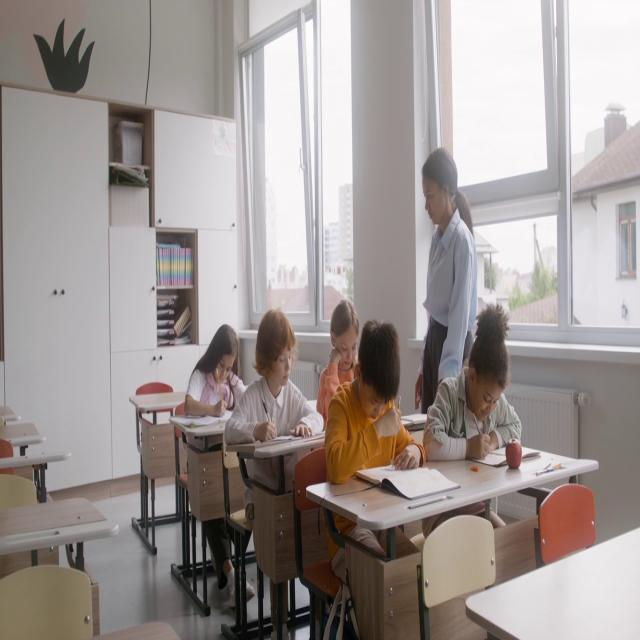reading: (317, 300, 359, 430)
writing: (323, 320, 425, 636), (226, 309, 323, 515), (185, 326, 253, 608), (425, 305, 522, 466), (184, 325, 244, 425)
